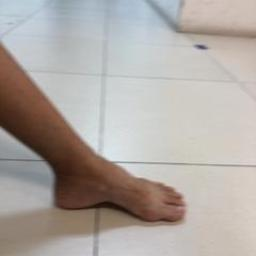Medial View -Left Foot-: (33, 132, 208, 238)
